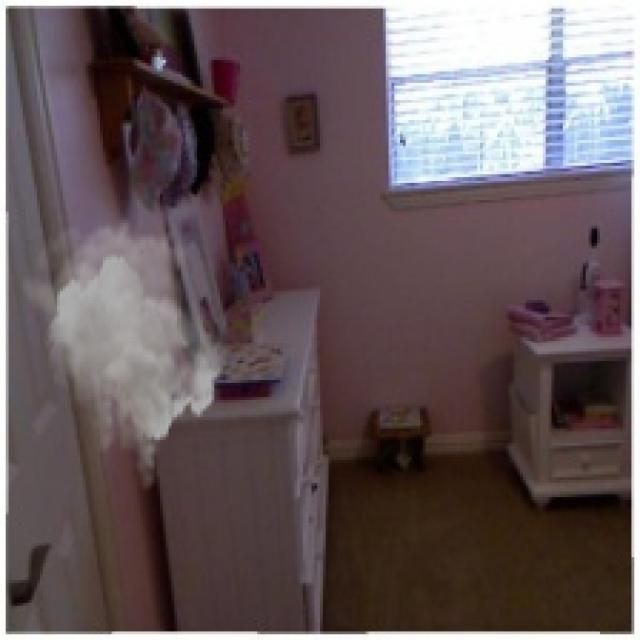smoke: (20, 217, 226, 494)
